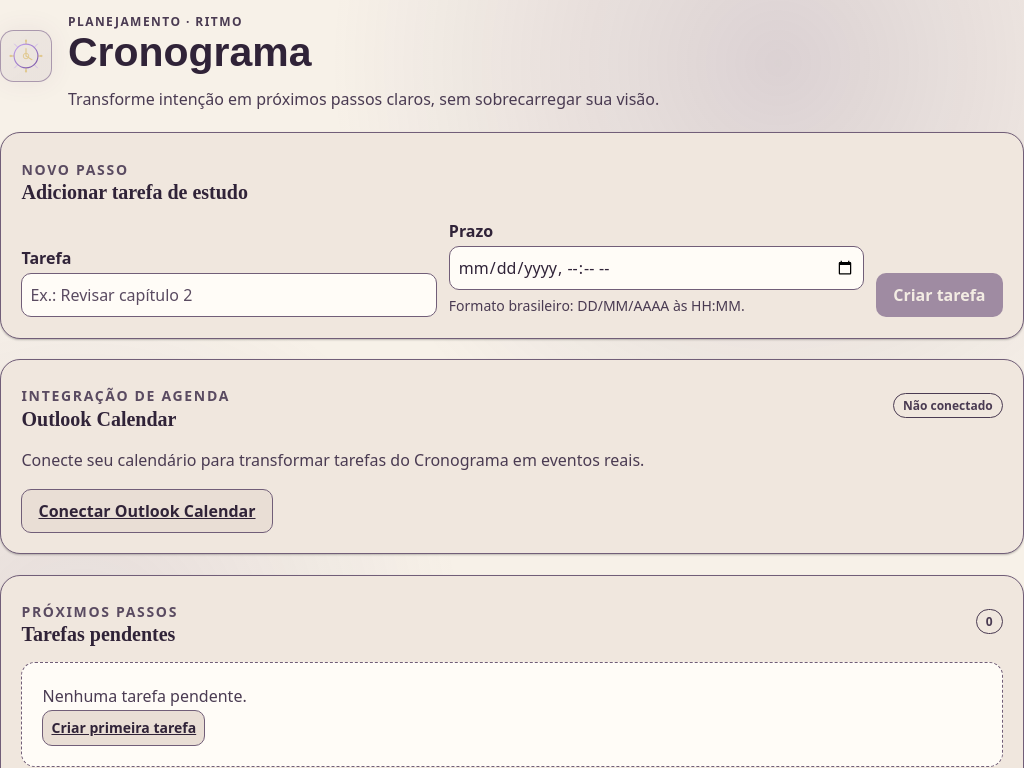
it: Cronograma server snapshot acknowledgment and reopening › does not resurrect a completed optimistic task after the server omits it
Type "Estudar alquimia" into the field labelled "Tarefa" at (229, 295), box [22,273,437,317]
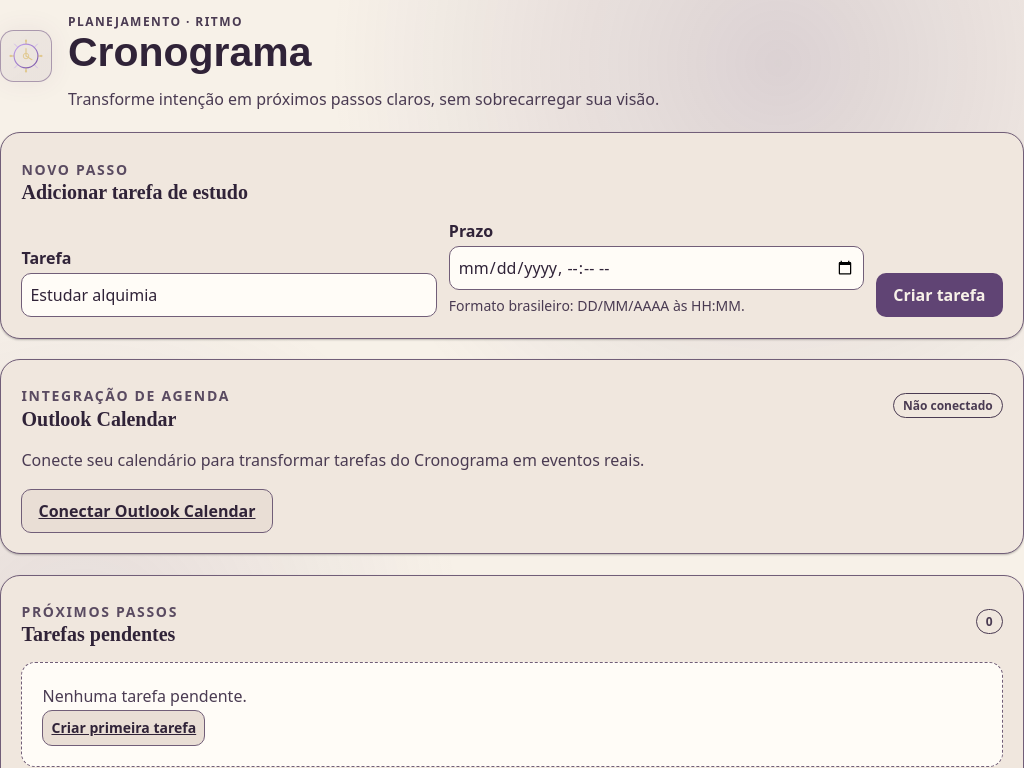
Submit the form named "Adicionar tarefa de estudo", box [22,220,1003,317]
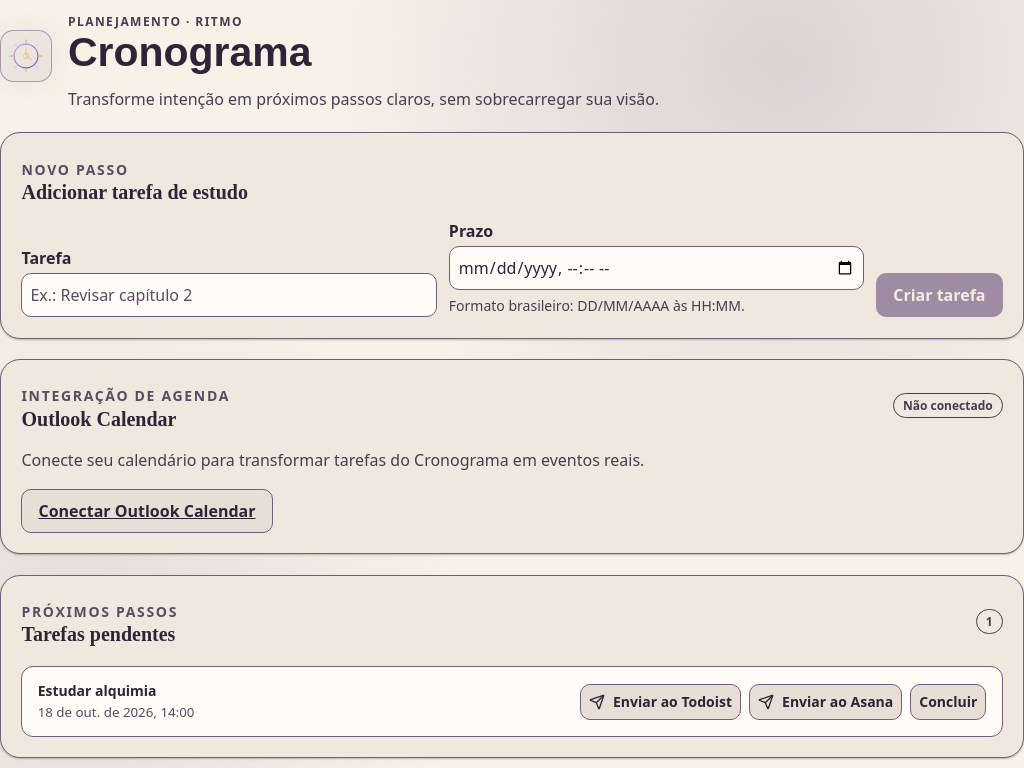
Now the text "Estudar alquimia" is shown, box [38,681,157,700]
Click the button "Concluir" at (948, 702), box [910,684,986,720]
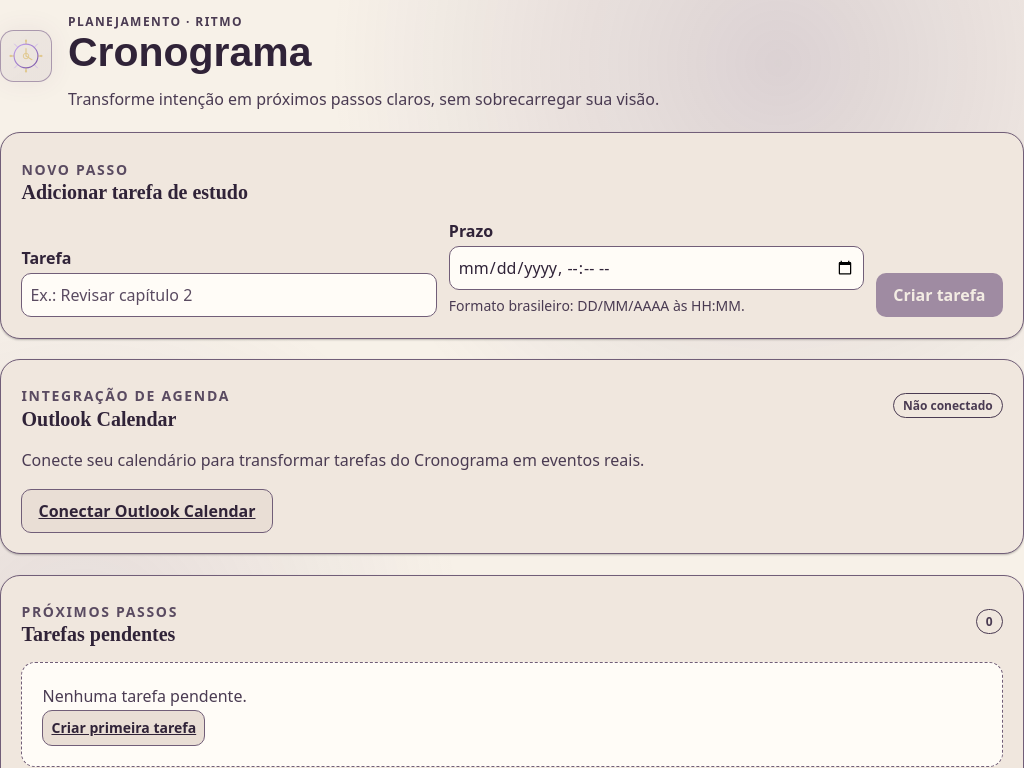
Now the text "Estudar alquimia" is gone
